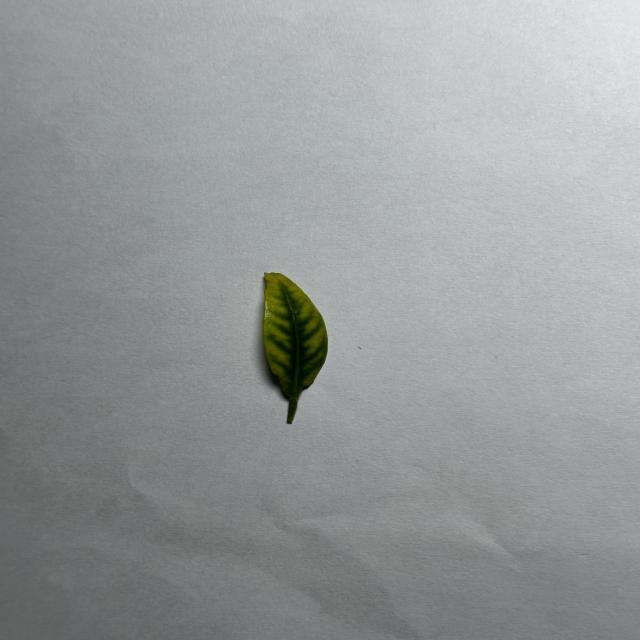greening: (263, 273, 328, 423)
